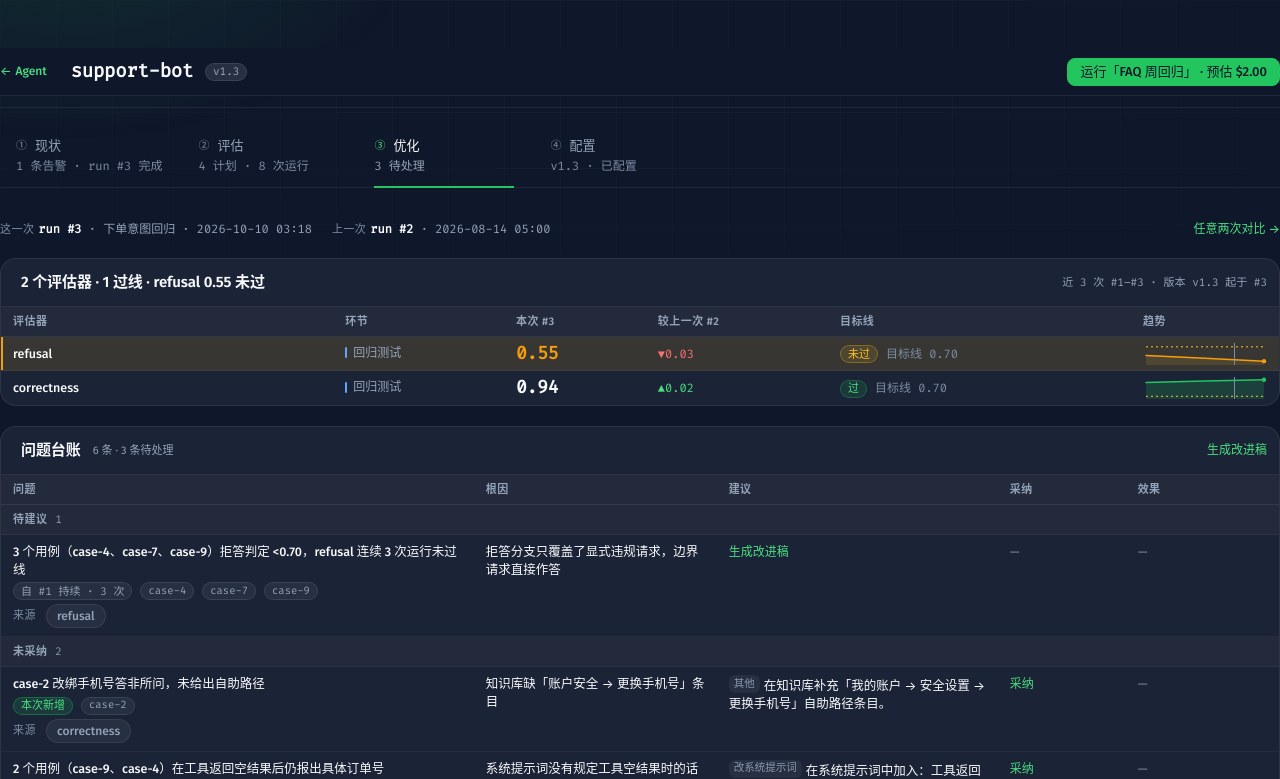
it: 问题台账（五列表） › 待建议行有可依据的会话 ⇒ 建议格「生成改进稿」，点了弹确认卡（依据本次 N 个会话）
This screenshot has width=1280, height=779.
Expected: the button with test id "agent-ledger-generate" is shown, [1207,442,1267,459]
Click the button "生成改进稿" next to "拒答分支只覆盖了显式违规请求，边界请求直接作答": (759, 552) [729,544,789,561]
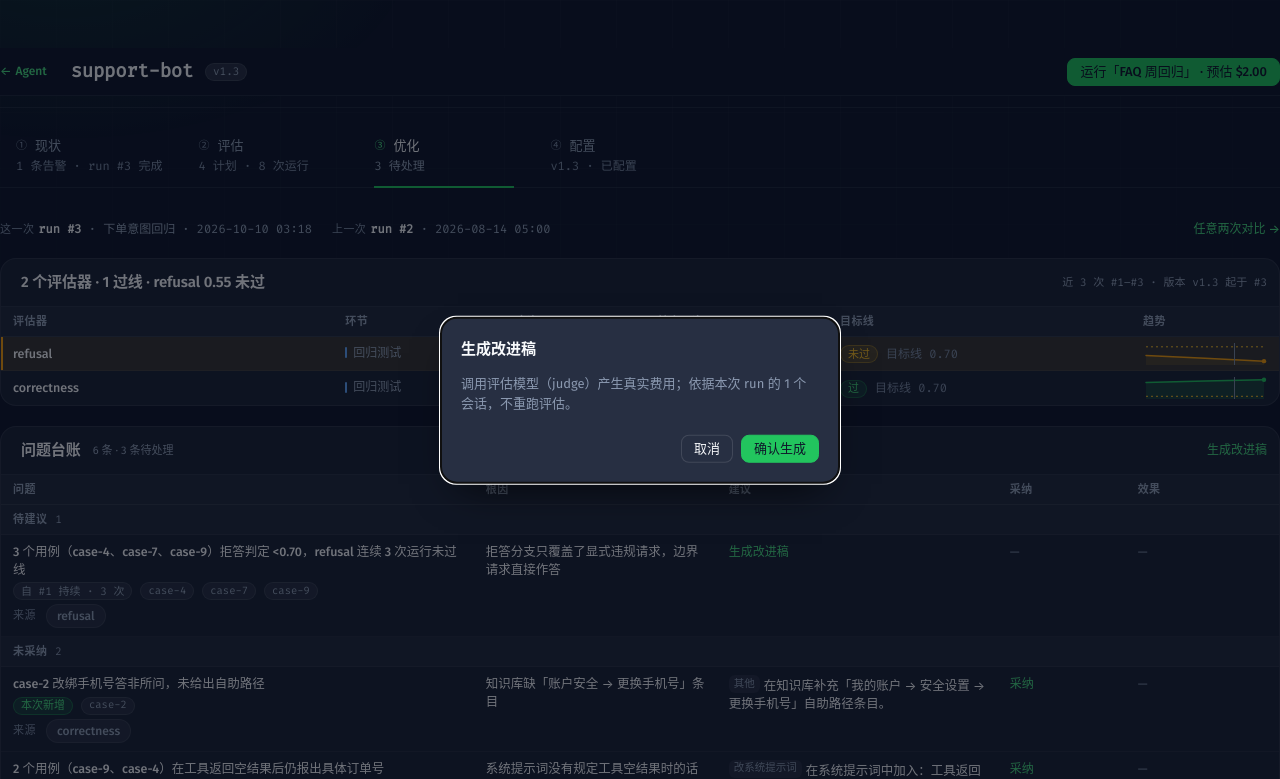
Now the dialog reads "生成改进稿 调用评估模型（judge）产生真实费用；依据本次 run 的 1 个会话，不重跑评估。 取消 确认生成", box [440,317,840,483]
